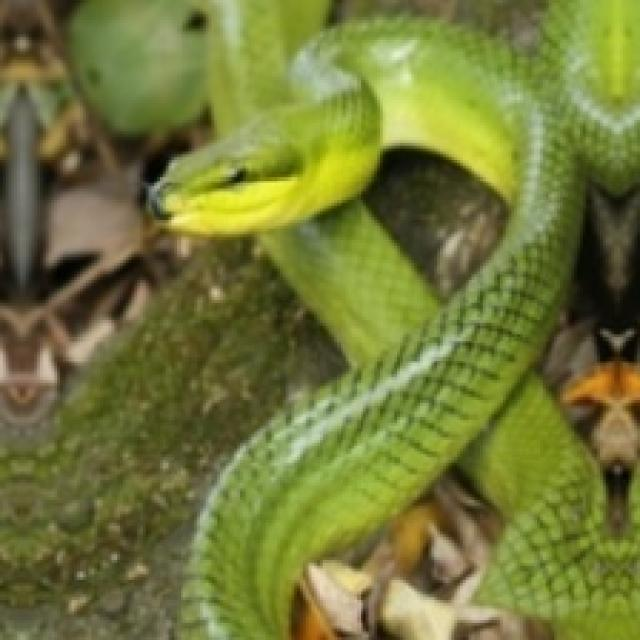red-tailed green ratsnake: (157, 0, 637, 637)
